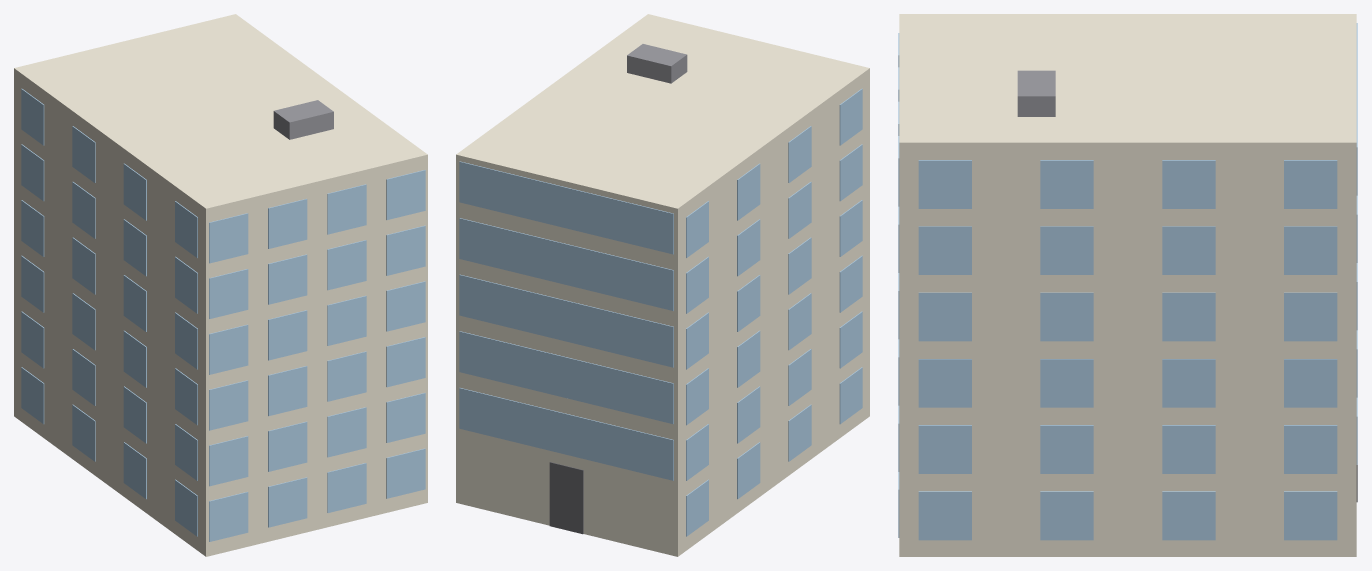
Rendered from apartment.glb.
3 renders of one model, left to right at view 1: azimuth 30°, elevation 25°; view 2: azimuth 150°, elevation 25°; view 3: azimuth 270°, elevation 25°, orthographic. The views are drawn at different scales.
Visible parts, largest first — view 1: apartment; view 2: apartment; view 3: apartment.
Boxes of the visible parts, x1=… form: apartment: x1=14, y1=14, x2=427, y2=556; apartment: x1=456, y1=14, x2=869, y2=556; apartment: x1=898, y1=14, x2=1357, y2=556.
Bounding box in the file's own units: 8.06 × 12.6 × 12.06.
